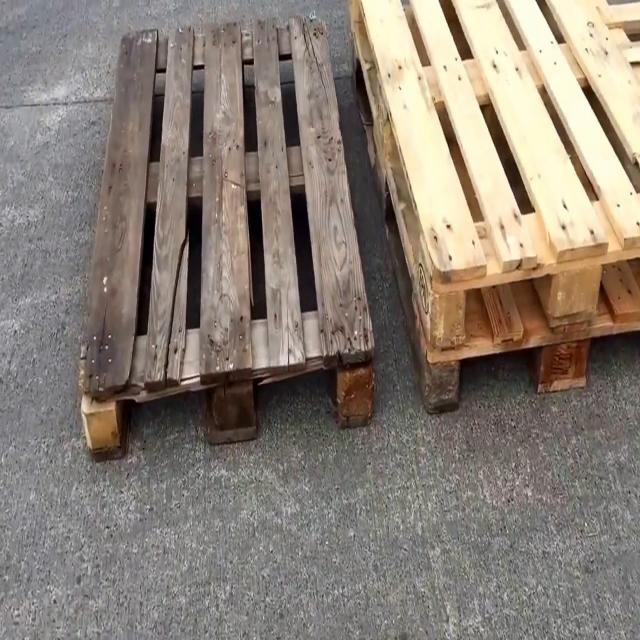Palette: (75, 7, 383, 467), (343, 0, 640, 418)
